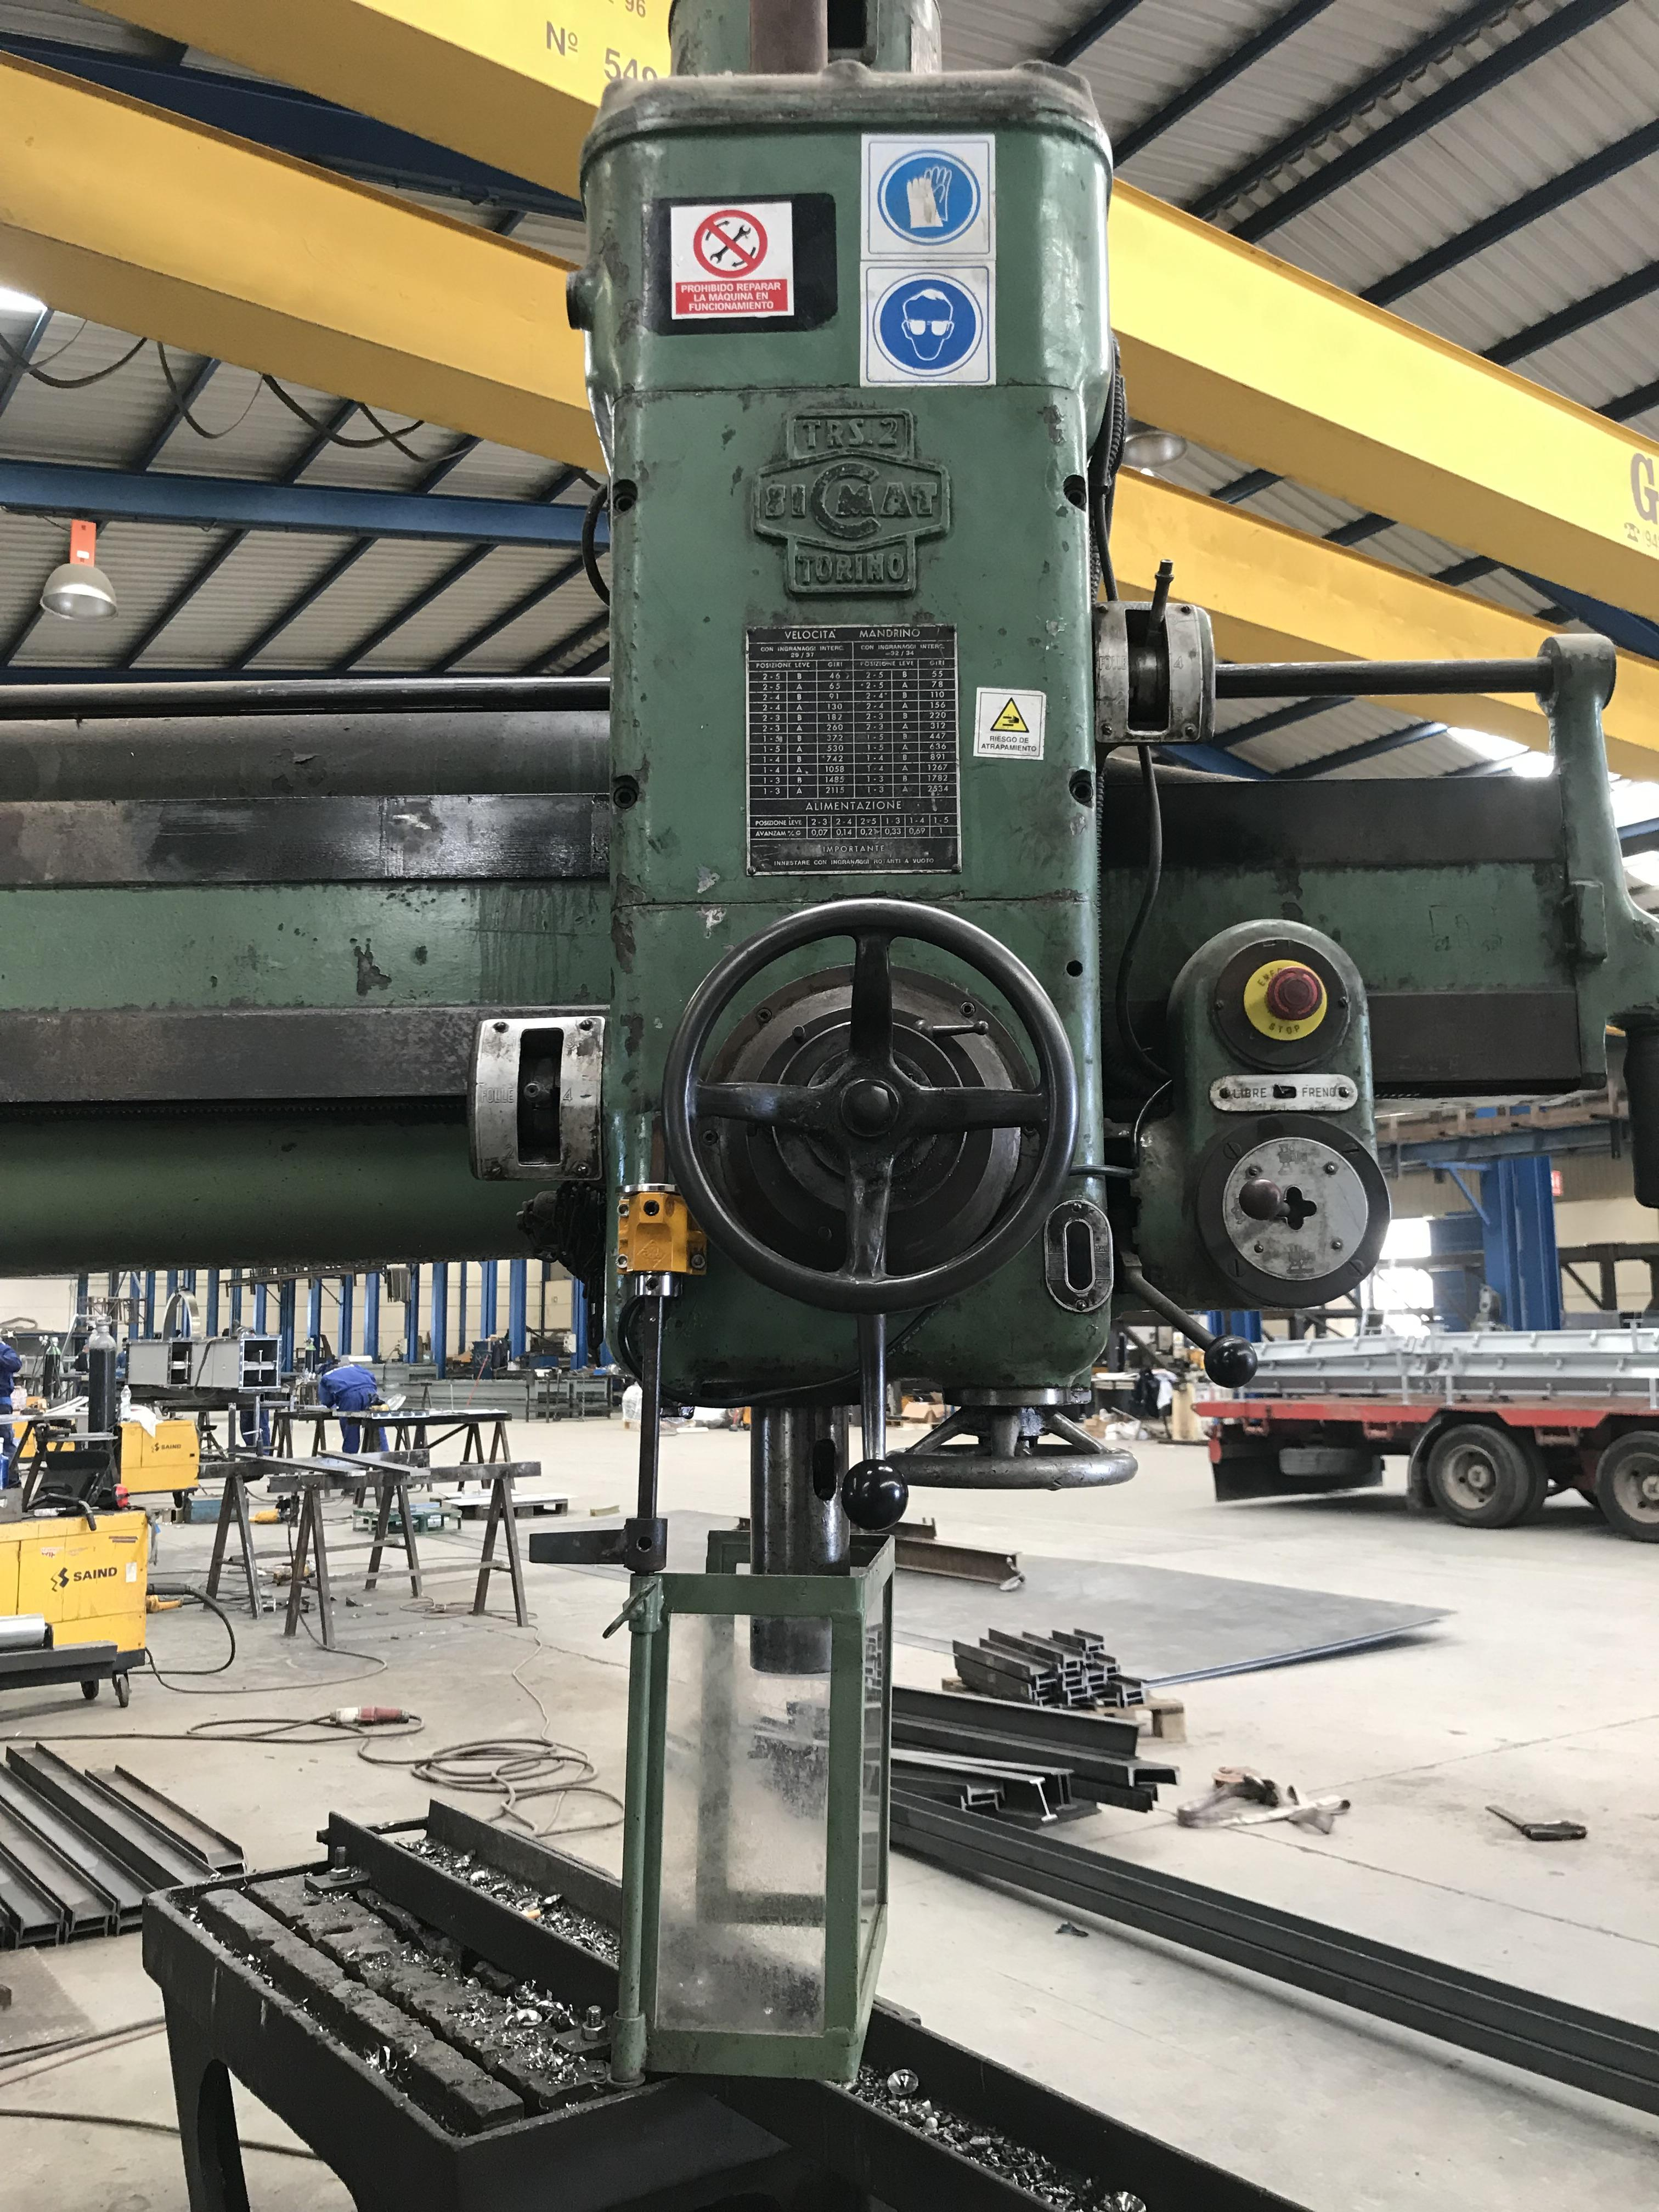falta_resguardo: (734, 1390, 861, 1686)
mandos_inseguros: (1181, 1072, 1395, 1310)
